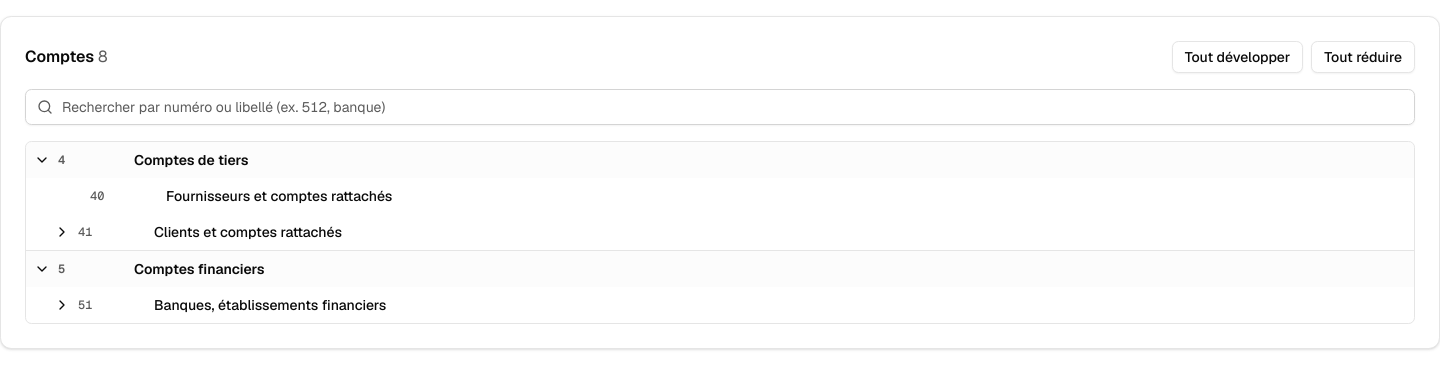
Scenario: chart of accounts page: tree › finds an account by label and opens its parents, hiding the branches without a match
Type "qonto" into the search field named "Rechercher un compte" at x=720, y=107, box x1=25 y1=89 x2=1415 y2=125
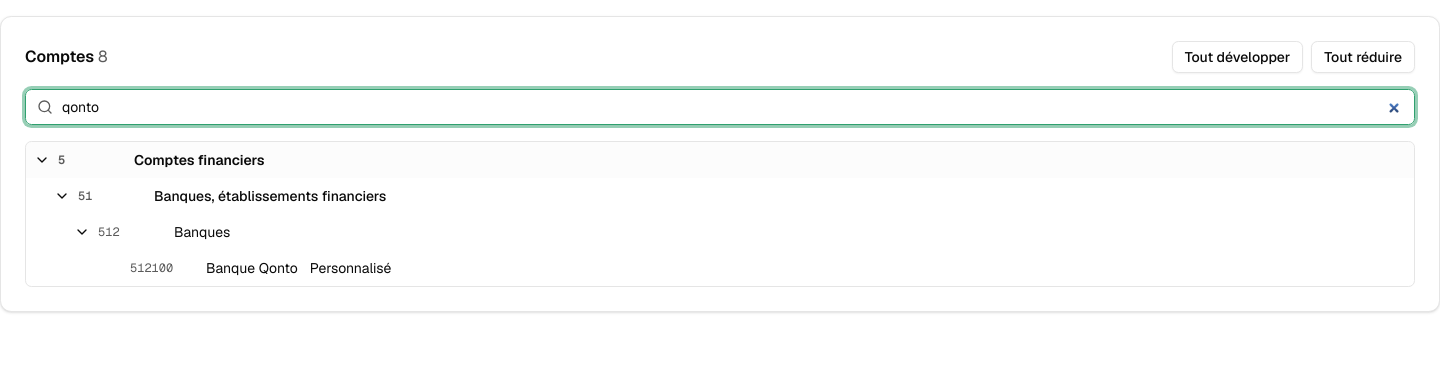
Now the link "512100 Banque Qonto Personnalisé" is shown, box x1=130 y1=259 x2=391 y2=277
